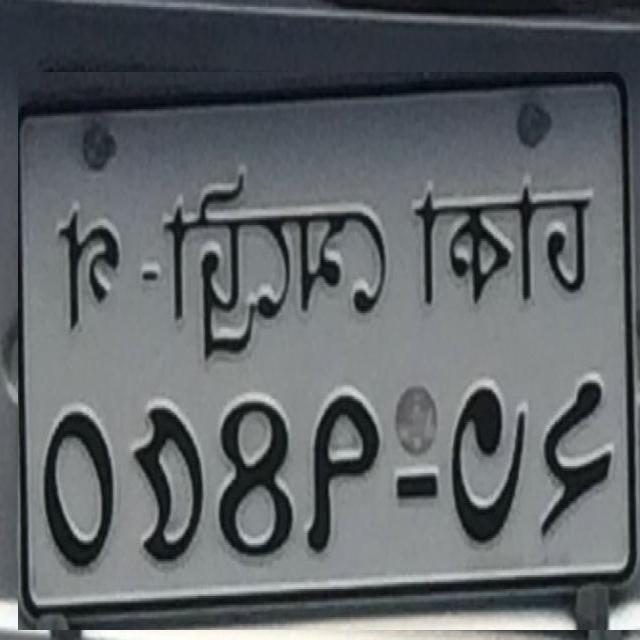numberplate: (18, 72, 640, 630)
